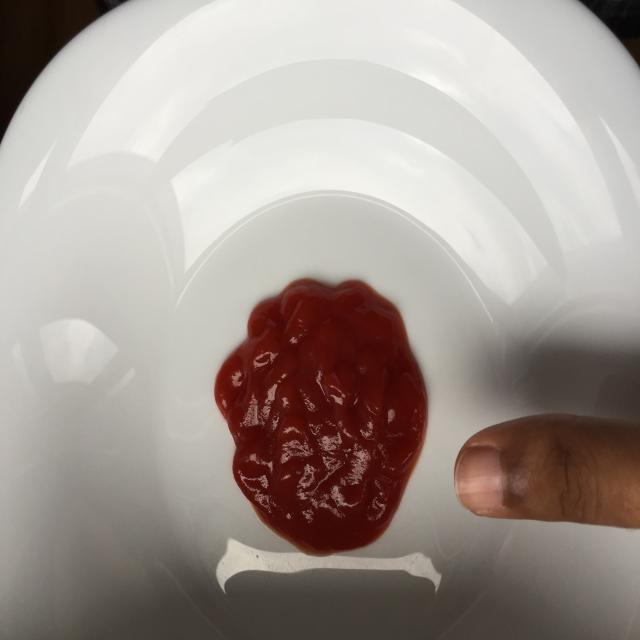carrot: (454, 412, 639, 530)
egg: (1, 1, 639, 638)
sauce: (213, 275, 430, 557)
